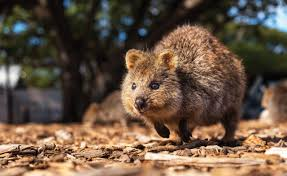quokka: (113, 20, 251, 149)
